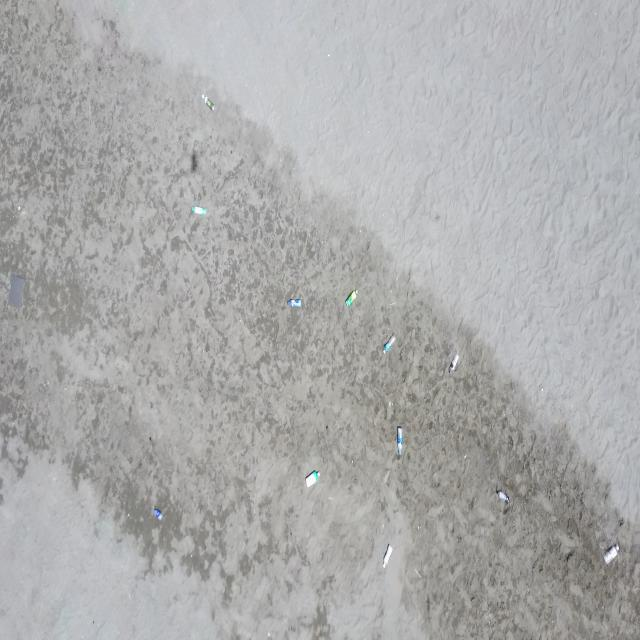Garbage: (8, 273, 24, 306), (603, 543, 619, 564), (304, 470, 319, 487), (447, 352, 459, 372), (395, 426, 403, 455), (382, 544, 392, 567), (383, 335, 395, 352), (344, 289, 356, 306), (495, 489, 507, 504), (203, 94, 212, 110), (151, 507, 161, 520), (192, 206, 206, 215), (288, 298, 300, 307), (413, 567, 420, 577)
